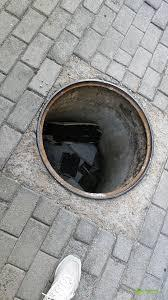wellcover: (38, 74, 156, 200)
